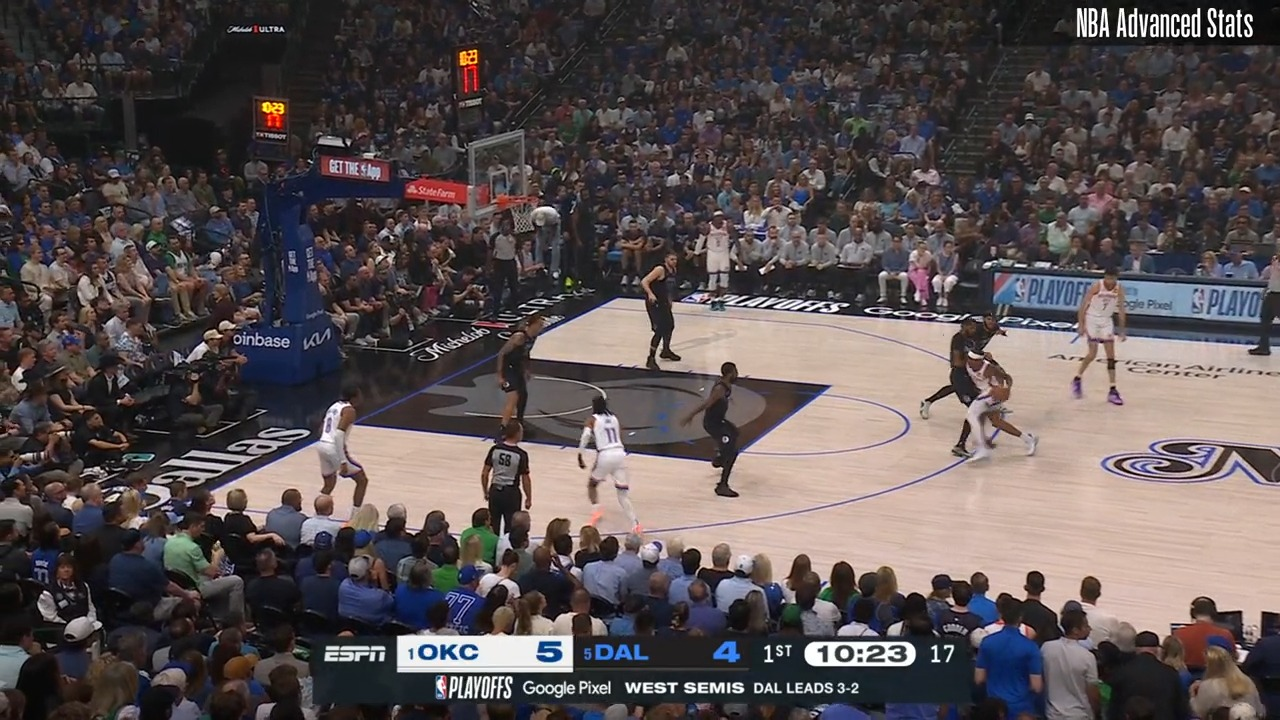basketball: (990, 384, 1008, 403)
